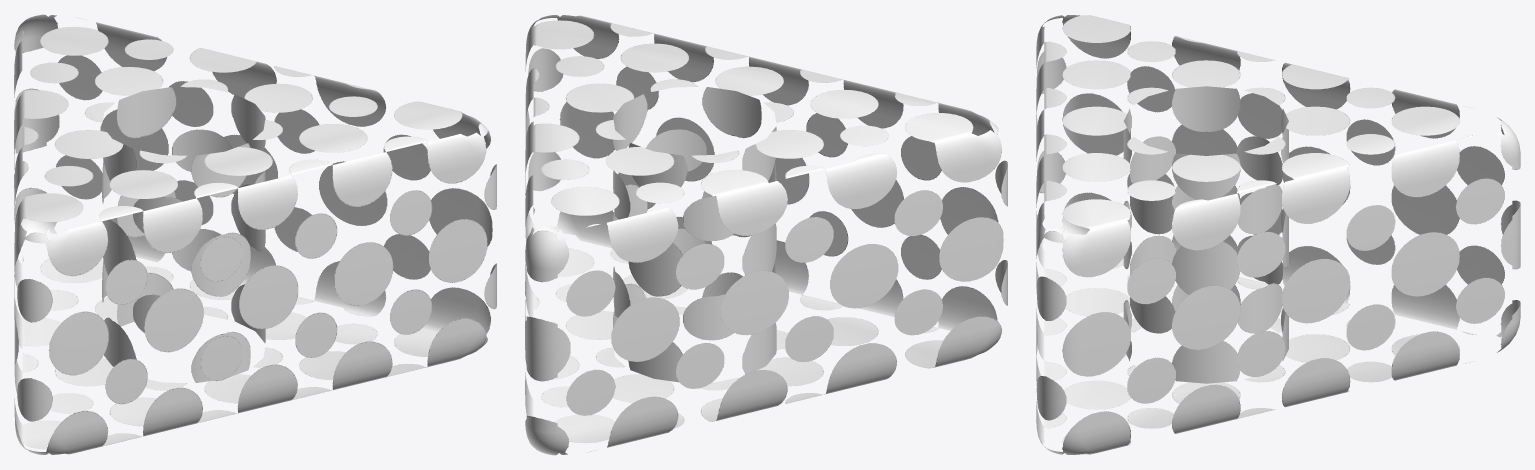
The picture shows the model from 3 angles, left to right: view 1: azimuth 30°, elevation 25°; view 2: azimuth 150°, elevation 25°; view 3: azimuth 270°, elevation 25°; orthographic projection.
Visible parts, largest first — view 1: OriginalTriangle.013; view 2: OriginalTriangle.013; view 3: OriginalTriangle.013.
Part boxes in pixels (<box>): OriginalTriangle.013: <box>14,14,496,454</box>; OriginalTriangle.013: <box>525,15,1007,455</box>; OriginalTriangle.013: <box>1036,15,1520,454</box>.
Size of the model in its own units: 156 by 71.37 by 138.
